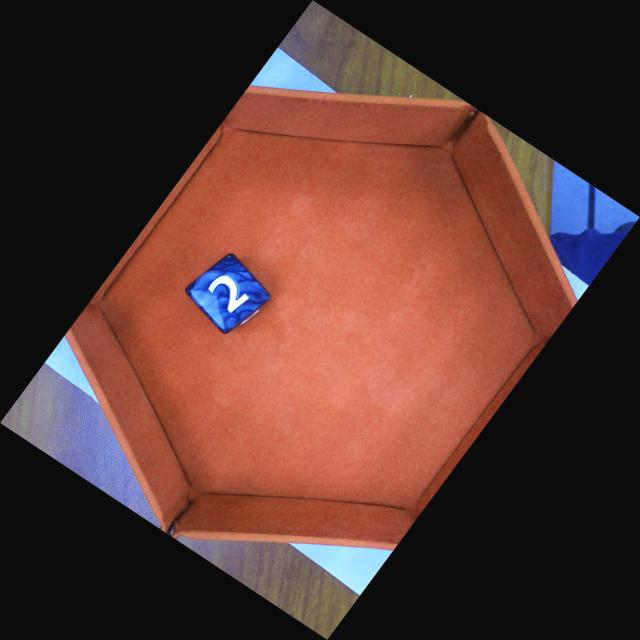dice: (182, 252, 273, 335)
